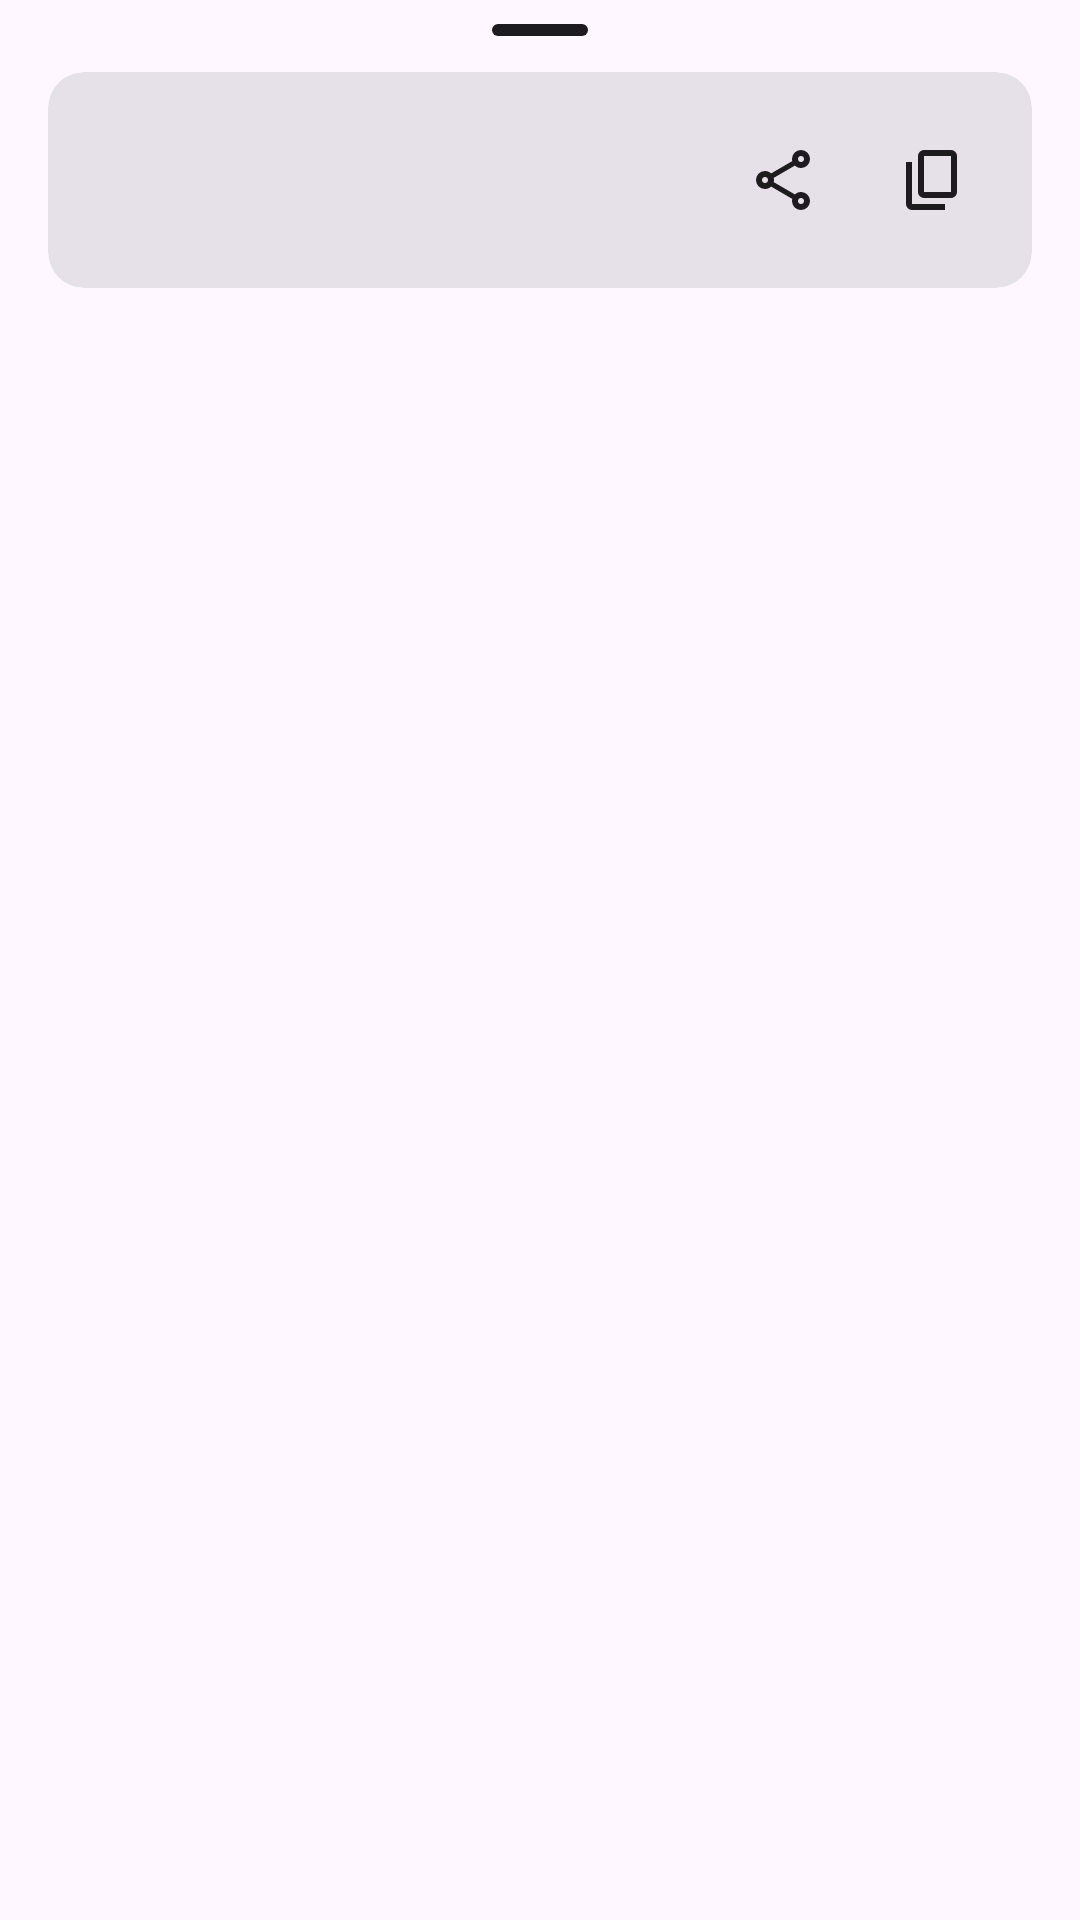

Icons on this 1080w x 1920h Android screen, each with its box as (x1,y1,x2,y2):
Copy to clipboard: (906,150,957,210)
Share: (756,150,810,210)
